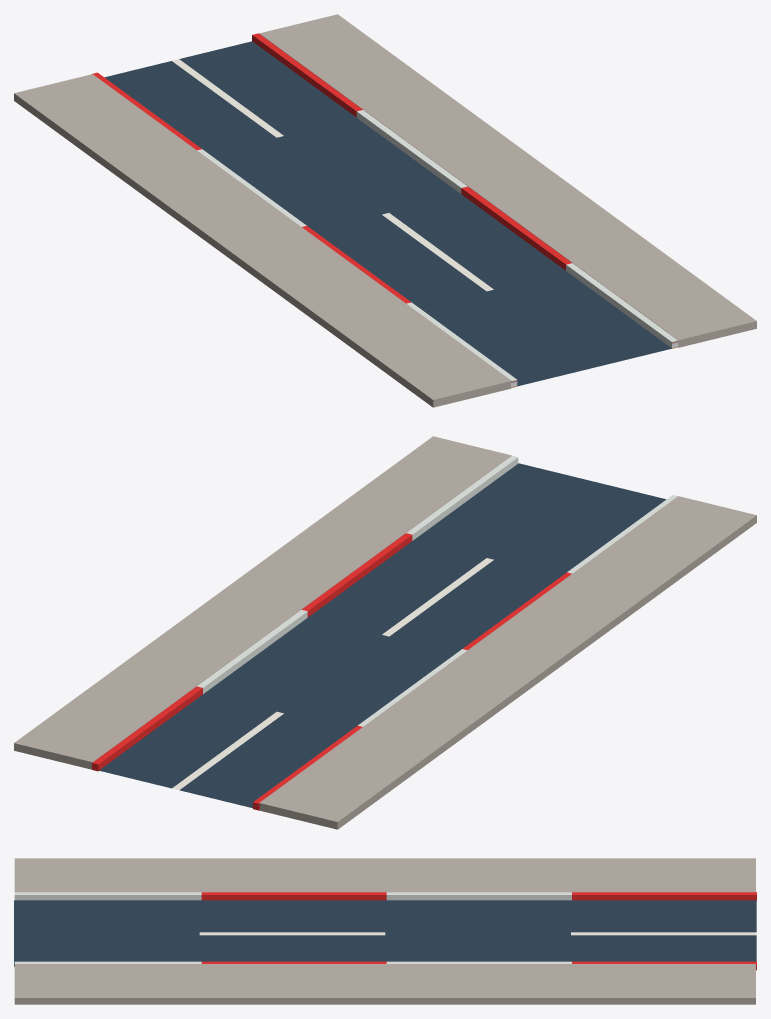
Rendered from road_line.fbx.
3 renders of one model, top to bottom at view 1: azimuth 30°, elevation 25°; view 2: azimuth 150°, elevation 25°; view 3: azimuth 270°, elevation 25°, orthographic. The views are drawn at different scales.
Visible parts, largest first — view 1: road, road.002, road.004, road.006, road.003; view 2: road, road.002, road.004, road.006, road.003; view 3: road, road.004, road.002, road.003, road.006.
Part boxes in pixels (x1,y1,x2,y2): road: (104, 41, 671, 386); road.002: (14, 74, 511, 407); road.004: (259, 14, 756, 347); road.006: (252, 33, 678, 348); road.003: (91, 72, 517, 388); road: (99, 463, 666, 808); road.002: (259, 496, 756, 829); road.004: (14, 436, 511, 769); road.006: (92, 456, 518, 771); road.003: (253, 495, 677, 810); road: (14, 900, 756, 966); road.004: (14, 964, 755, 1004); road.002: (14, 858, 755, 892); road.003: (14, 892, 756, 900); road.006: (14, 961, 756, 970).
Bounding box in the file's own units: 1674 × 37.76 × 3762.
